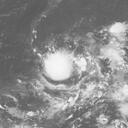cyclone: (41, 51, 76, 80)
